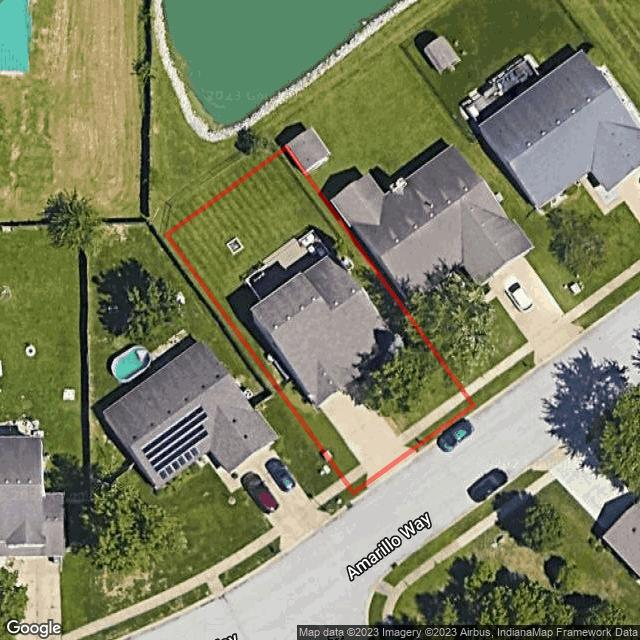Driveway: (320, 392, 412, 480)
Extra Driveway: (367, 452, 419, 489)
Extra Lawn: (415, 406, 478, 452), (354, 487, 368, 498)
House: (251, 256, 397, 408)
Other: (246, 229, 328, 298), (264, 351, 291, 382), (226, 236, 244, 254), (341, 256, 354, 271)
Sidewalk: (400, 391, 466, 445), (344, 465, 367, 484)
